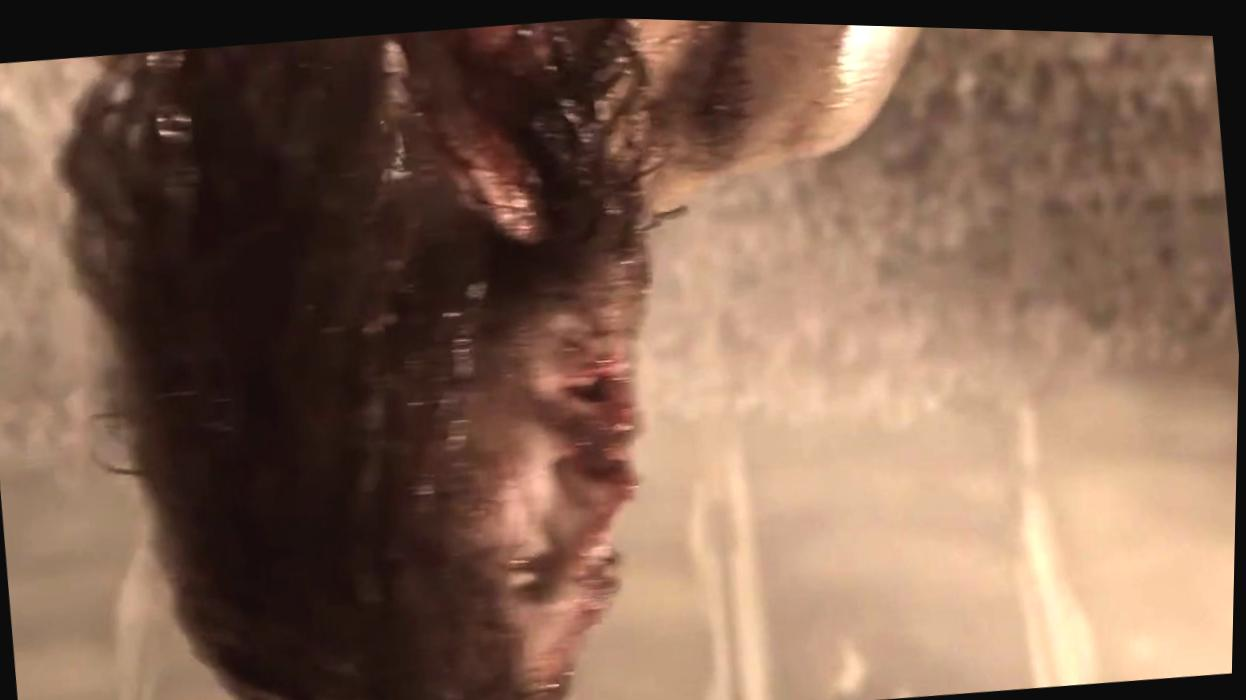Fire: (526, 423, 640, 678)
